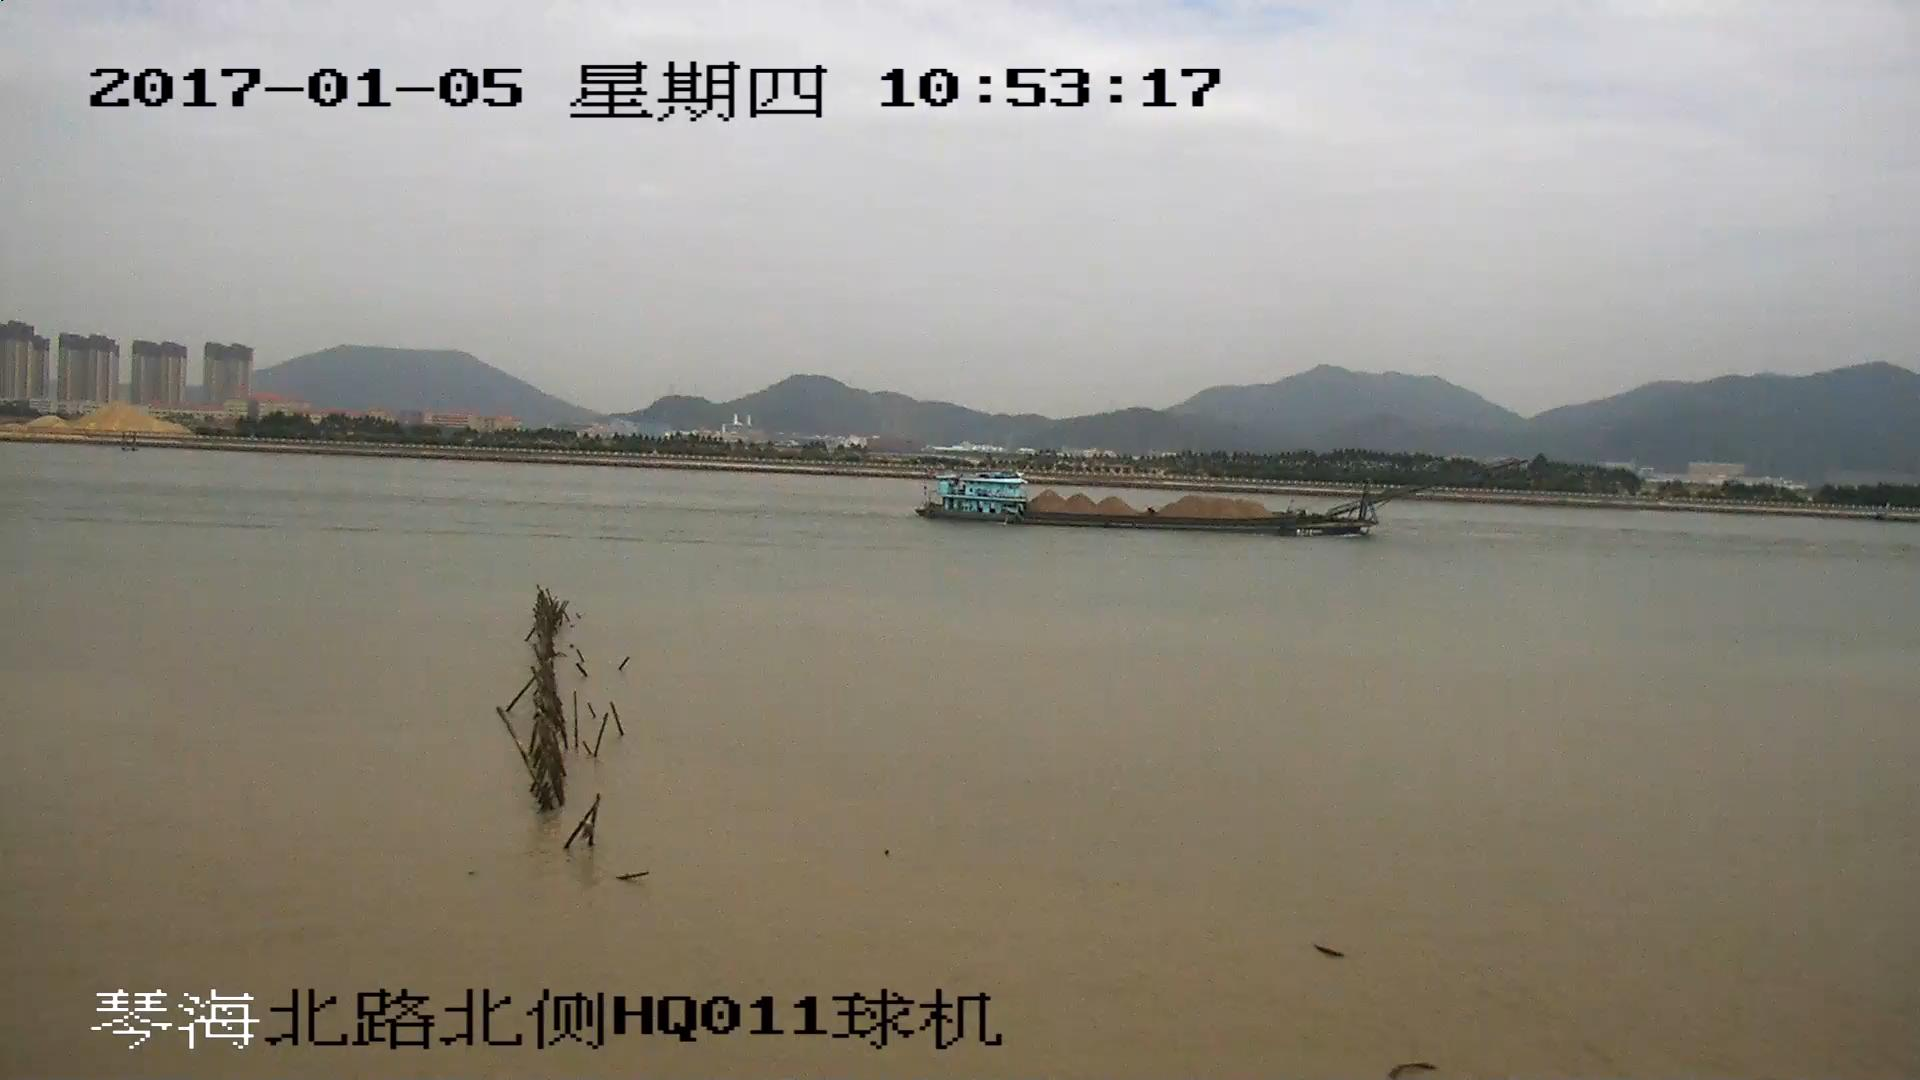ore carrier: (920, 464, 1512, 542)
